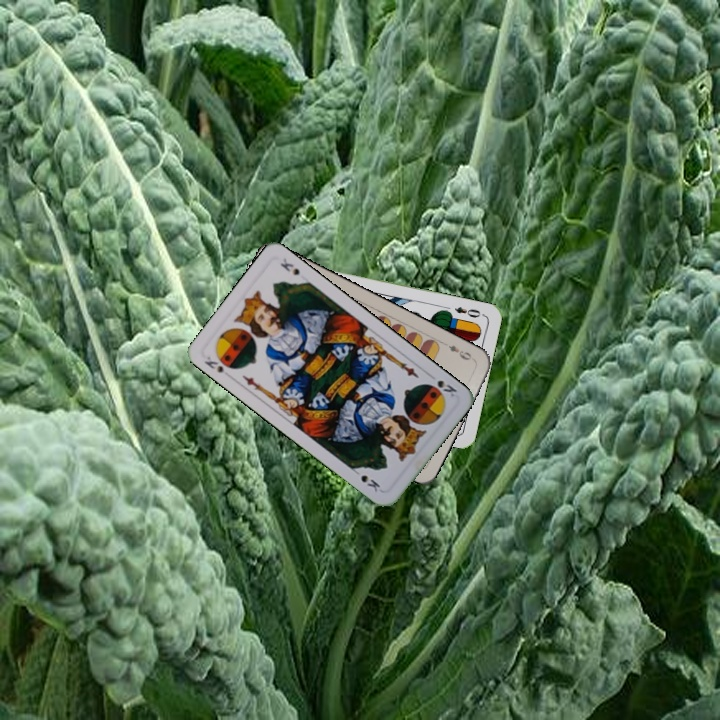E9: (440, 338, 477, 363)
EO: (450, 302, 486, 320)
SK: (200, 351, 237, 376), (433, 376, 460, 400)
